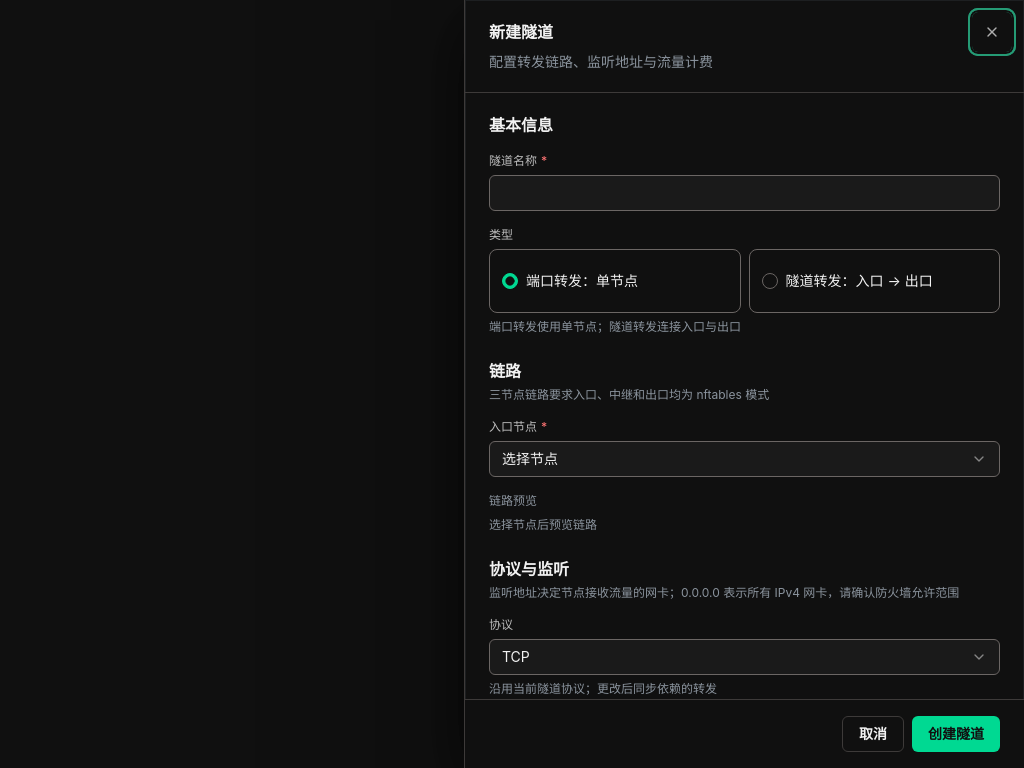
Scenario: 空表单提交显示关联字段错误，不使用toast校验
Click the button "创建隧道": (956,734) [912,716,1000,752]
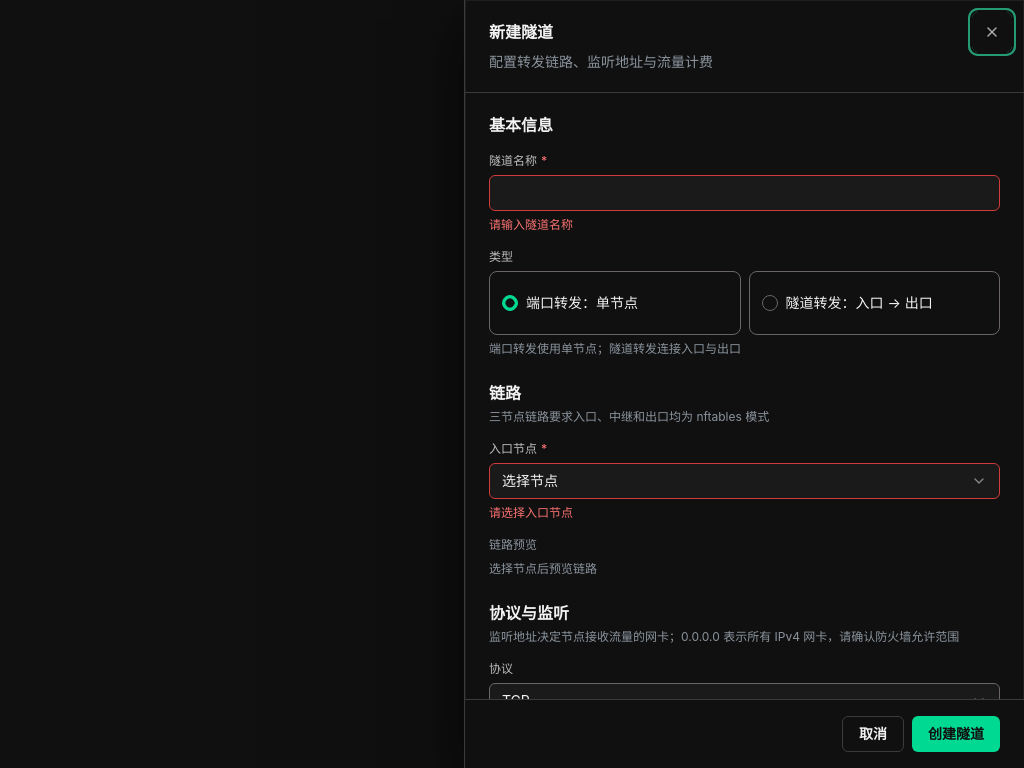
Now the text "请输入隧道名称" is shown, box [489,217,573,232]
